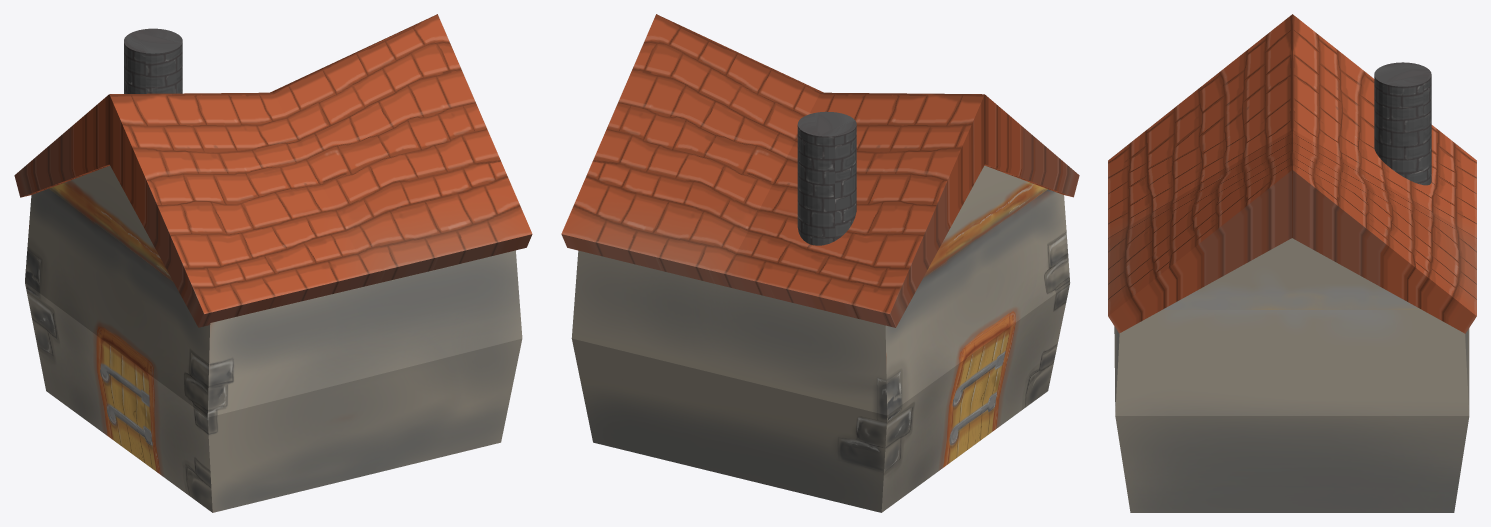
The model's file is house.fbx.
The picture shows the model from 3 angles, left to right: view 1: azimuth 30°, elevation 25°; view 2: azimuth 150°, elevation 25°; view 3: azimuth 270°, elevation 25°; orthographic projection. The views are drawn at different scales.
Visible parts, largest first — view 1: Circle; view 2: Circle; view 3: Circle.
Part boxes in pixels (x1,y1,x2,y2): Circle: (14, 14, 532, 512); Circle: (561, 14, 1079, 512); Circle: (1108, 14, 1476, 512).
Bounding box in the file's own units: 215 × 227 × 215.
Materials: 1 (1 with a texture image).
